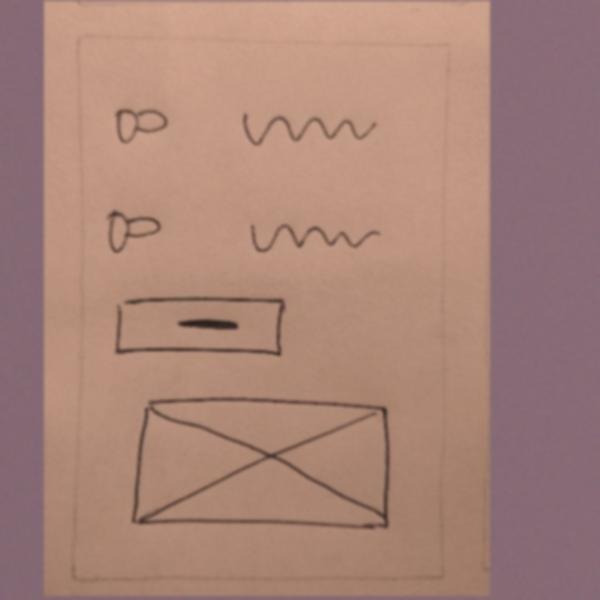button: (107, 289, 288, 368)
image: (125, 386, 401, 543)
switch: (100, 201, 162, 262), (106, 95, 177, 148)
text: (235, 102, 386, 157), (243, 208, 384, 263)
